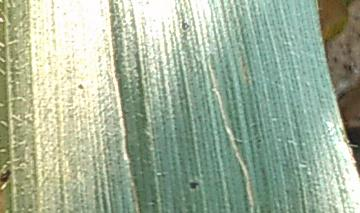tarspot: (1, 166, 15, 190), (187, 176, 203, 192), (75, 79, 90, 94)
